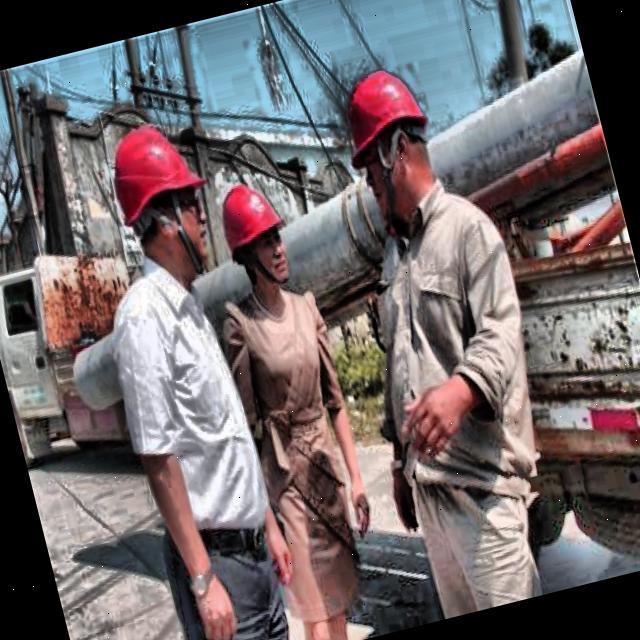helmet: (88, 99, 226, 293), (326, 48, 462, 236), (207, 166, 305, 302)
